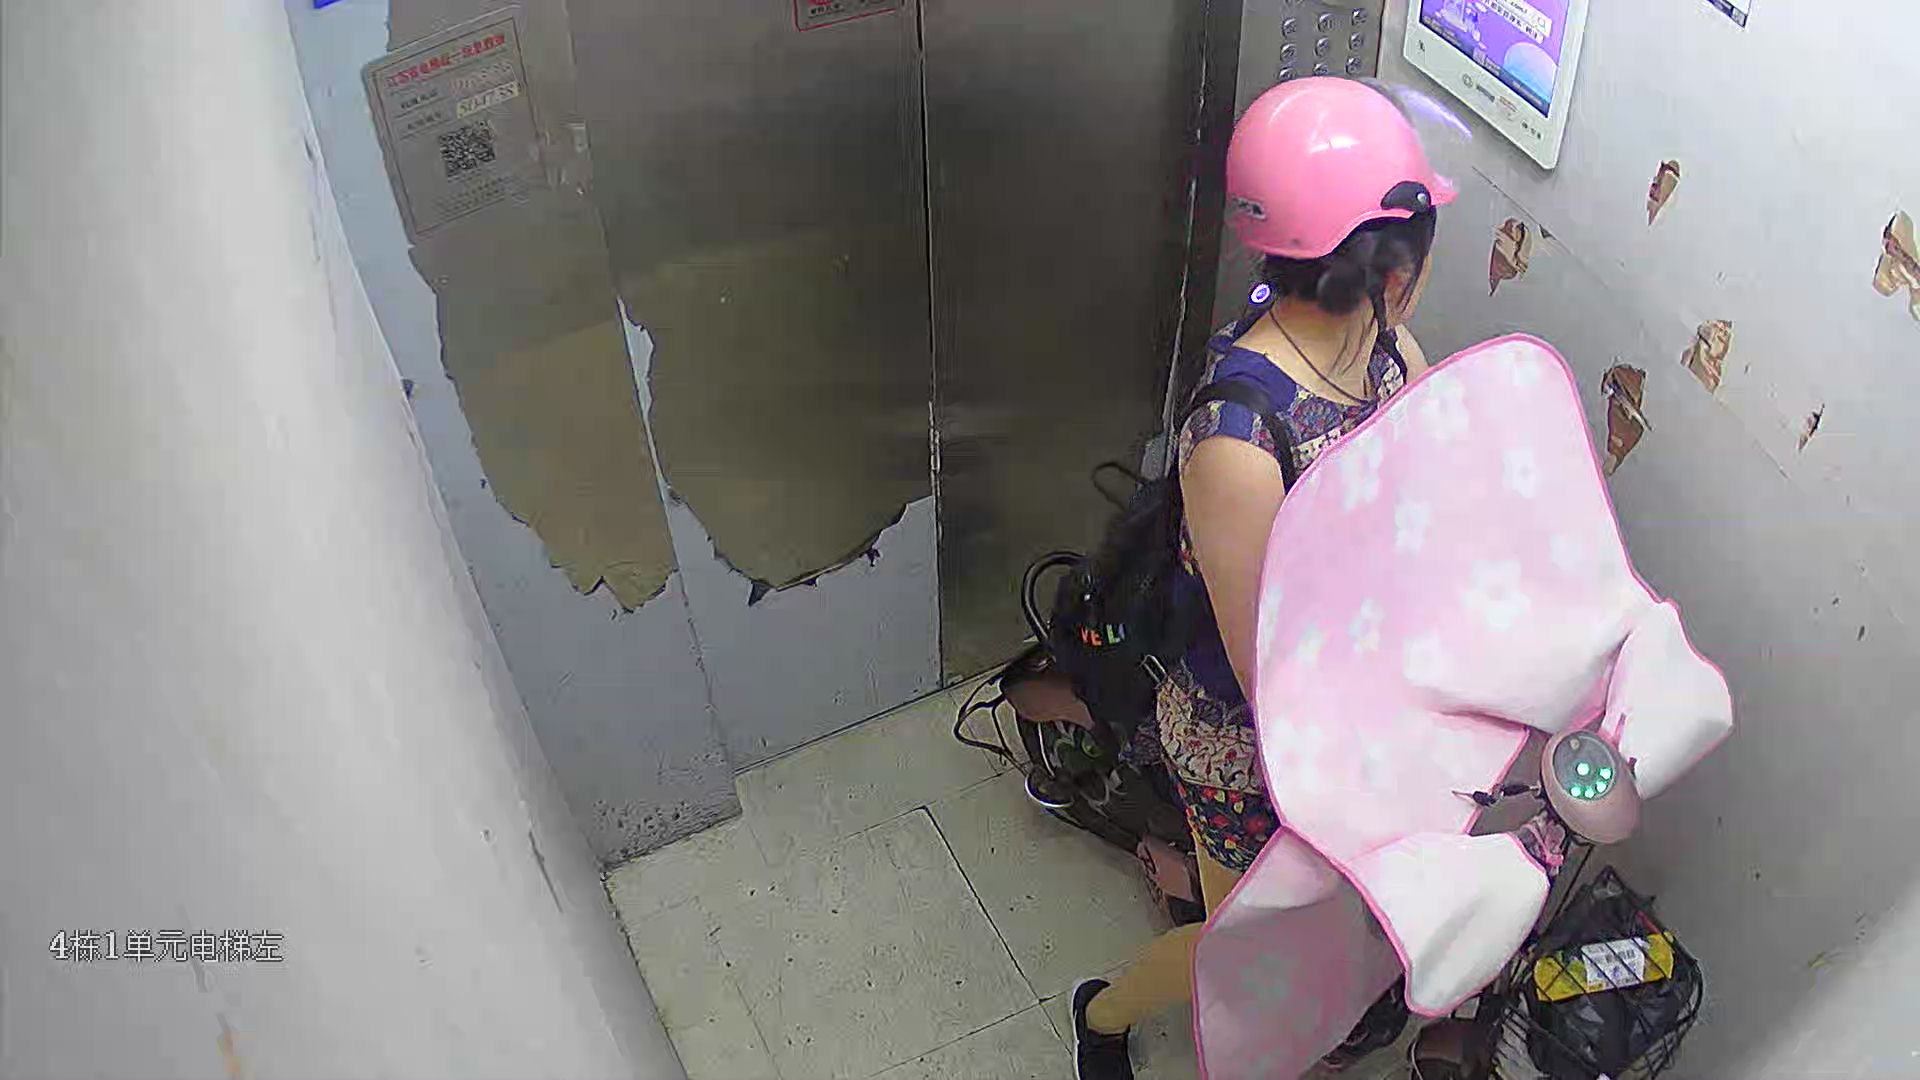Electric-bicycle: (1017, 342, 1716, 1080)
